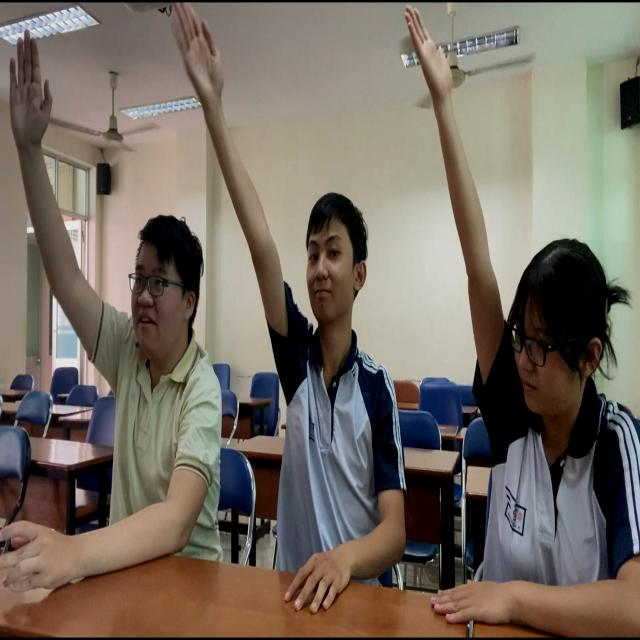raise_hand: (406, 1, 640, 636), (1, 1, 214, 640)
